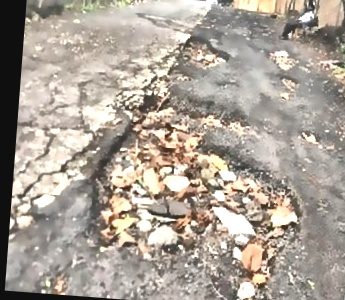pothole: (77, 86, 312, 300), (175, 35, 233, 70), (265, 45, 300, 69), (279, 73, 299, 89)
